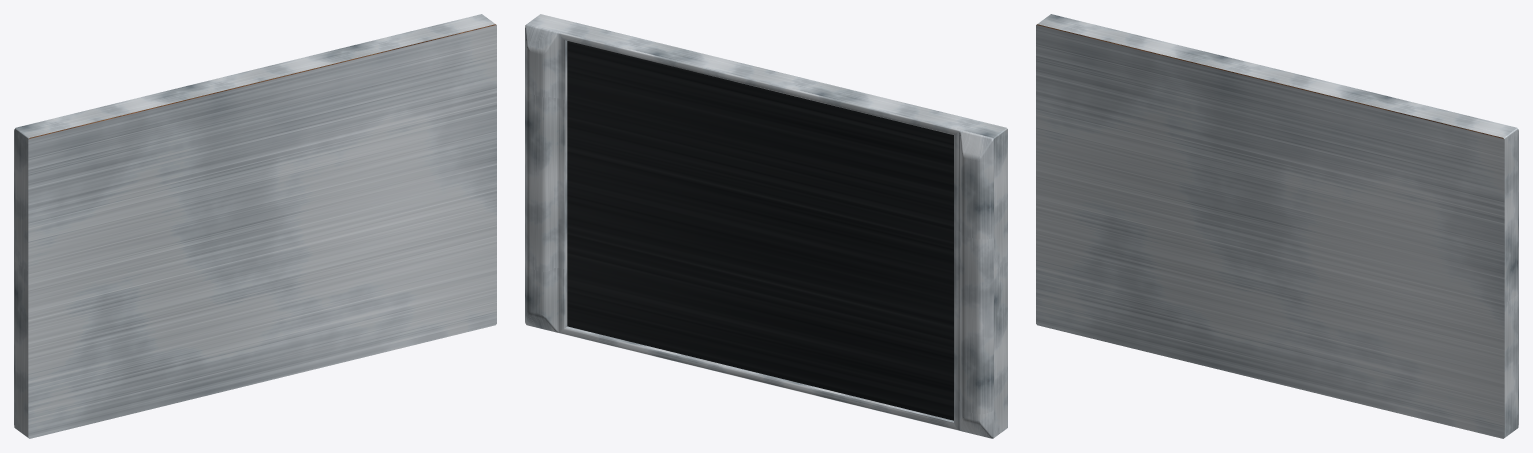
File: timermesh2.fbx
The picture shows the model from 3 angles, left to right: view 1: azimuth 30°, elevation 25°; view 2: azimuth 150°, elevation 25°; view 3: azimuth 330°, elevation 25°; orthographic projection.
Parts seen in each view (by area): view 1: racetimermesh2; view 2: racetimermesh2; view 3: racetimermesh2.
Part boxes in pixels (bbox=[...]): racetimermesh2: bbox=[14, 14, 496, 438]; racetimermesh2: bbox=[525, 14, 1007, 438]; racetimermesh2: bbox=[1036, 14, 1518, 438].
Size of the model in its own units: 0.1319 by 0.081 by 0.00987.
